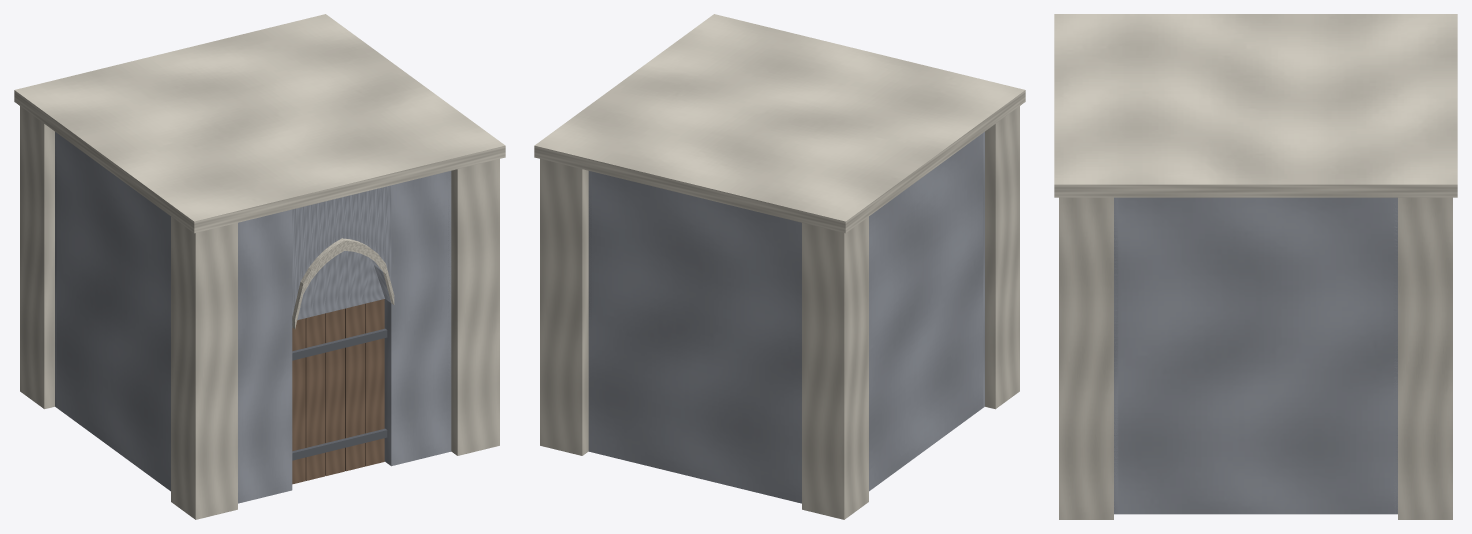
Rendered from vampire-crypt-and-gothic-cathedral-bell-tower-base-83bb8681__22950.glb.
3 views of the same model, side by side, from view 1: azimuth 30°, elevation 25°; view 2: azimuth 150°, elevation 25°; view 3: azimuth 270°, elevation 25° (orthographic). The views are drawn at different scales.
Visible parts, largest first — view 1: bell-tower-base, door-leaf/timber, door-leaf/iron; view 2: bell-tower-base; view 3: bell-tower-base.
Boxes of the visible parts, x1,y1,x2,y2 form: bell-tower-base: [14, 14, 505, 519]; door-leaf/timber: [292, 299, 384, 484]; door-leaf/iron: [292, 328, 387, 460]; bell-tower-base: [534, 14, 1025, 519]; bell-tower-base: [1054, 14, 1457, 519].
Bounding box in the file's own units: 4.4 × 4.06 × 4.4.
Materials: 4 (3 with a texture image).
